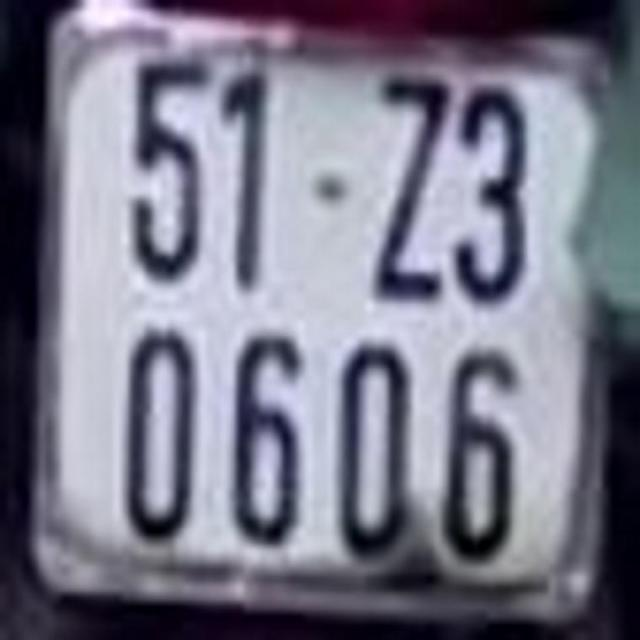0: (339, 343, 410, 555), (126, 333, 196, 538)
1: (218, 73, 274, 290)
3: (459, 85, 525, 308)
5: (131, 63, 212, 282)
6: (237, 333, 302, 544), (450, 349, 514, 560)
Z: (373, 71, 447, 291)
